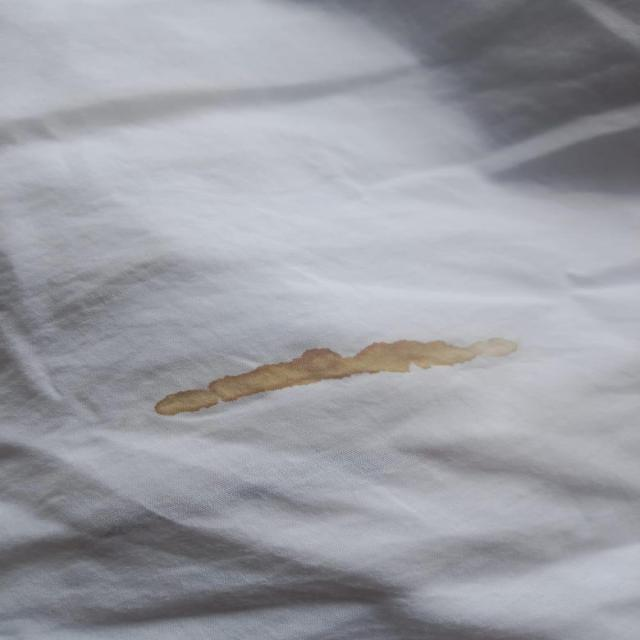stain: (146, 335, 536, 419)
